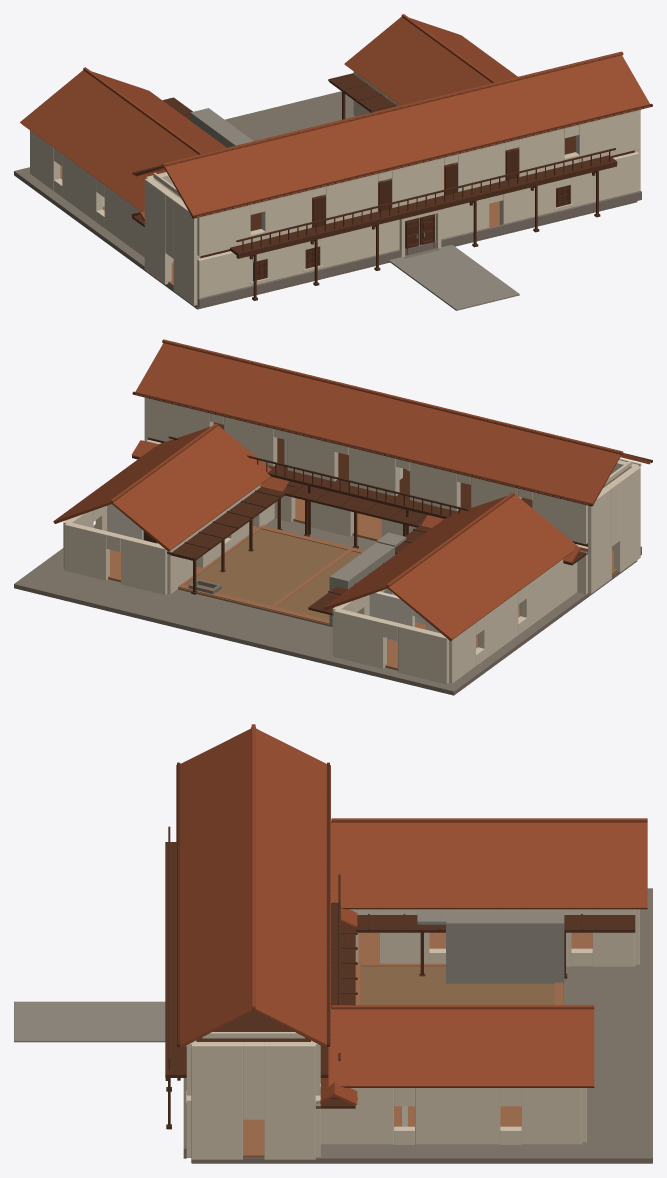
Rendered from JW_Hacienda_Mayorazgo_V7_Unreal.fbx.
3 renders of one model, top to bottom at view 1: azimuth 30°, elevation 25°; view 2: azimuth 150°, elevation 25°; view 3: azimuth 270°, elevation 25°, orthographic. The views are drawn at different scales.
Parts seen in each view (by area): view 1: EXP_Roofs, EXP_ExteriorWalls_Ground, EXP_ExteriorWalls_Upper, EXP_Foundation_Floors, EXP_Architectural_Misc, EXP_ExteriorBalcony, EXP_RoofTrim, EXP_StonePlinth, EXP_Timber_Galleries, EXP_CornicesTrim, EXP_Staircase, EXP_Windows (+2 smaller); view 2: EXP_Roofs, EXP_Foundation_Floors, EXP_ExteriorWalls_Ground, EXP_ExteriorWalls_Upper, EXP_Architectural_Misc, EXP_RoofTrim, EXP_Timber_Galleries, EXP_InteriorWalls_Ground, EXP_Staircase, EXP_ExteriorBalcony; view 3: EXP_Roofs, EXP_Foundation_Floors, EXP_ExteriorWalls_Ground, EXP_Architectural_Misc, EXP_Staircase, EXP_RoofTrim, EXP_ExteriorBalcony, EXP_Timber_Galleries, EXP_ExteriorWalls_Upper.
Part boxes in pixels (bbox=[...]): EXP_Roofs: bbox=[20, 17, 649, 221]; EXP_ExteriorWalls_Ground: bbox=[30, 71, 639, 305]; EXP_ExteriorWalls_Upper: bbox=[146, 111, 639, 256]; EXP_Foundation_Floors: bbox=[14, 91, 637, 310]; EXP_Architectural_Misc: bbox=[132, 110, 640, 305]; EXP_ExteriorBalcony: bbox=[229, 148, 617, 258]; EXP_RoofTrim: bbox=[83, 14, 652, 218]; EXP_StonePlinth: bbox=[198, 191, 641, 307]; EXP_Timber_Galleries: bbox=[162, 73, 598, 298]; EXP_CornicesTrim: bbox=[198, 109, 640, 258]; EXP_Staircase: bbox=[190, 108, 253, 147]; EXP_Windows: bbox=[250, 184, 573, 283]; EXP_Roofs: bbox=[53, 343, 650, 641]; EXP_Foundation_Floors: bbox=[14, 422, 637, 695]; EXP_ExteriorWalls_Ground: bbox=[63, 439, 613, 684]; EXP_ExteriorWalls_Upper: bbox=[146, 398, 639, 544]; EXP_Architectural_Misc: bbox=[132, 397, 640, 593]; EXP_RoofTrim: bbox=[110, 339, 652, 586]; EXP_Timber_Galleries: bbox=[167, 481, 430, 615]; EXP_InteriorWalls_Ground: bbox=[107, 504, 520, 641]; EXP_Staircase: bbox=[329, 532, 406, 626]; EXP_ExteriorBalcony: bbox=[168, 436, 469, 516]; EXP_Roofs: bbox=[180, 728, 647, 1106]; EXP_Foundation_Floors: bbox=[14, 888, 652, 1163]; EXP_ExteriorWalls_Ground: bbox=[186, 909, 639, 1157]; EXP_Architectural_Misc: bbox=[166, 902, 355, 1159]; EXP_Staircase: bbox=[417, 910, 564, 983]; EXP_RoofTrim: bbox=[176, 724, 647, 1086]; EXP_ExteriorBalcony: bbox=[165, 826, 340, 1080]; EXP_Timber_Galleries: bbox=[168, 914, 635, 1125]; EXP_ExteriorWalls_Upper: bbox=[186, 1040, 320, 1095].
Size of the model in its own units: 37.6 by 10.16 by 36.
